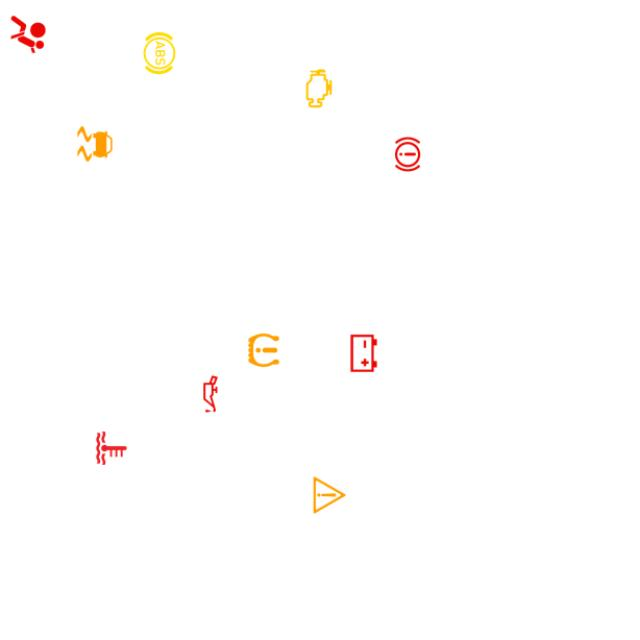Anti Lock Braking System: (136, 30, 182, 76)
Braking System Issue: (384, 132, 430, 178)
Charging System Issue: (341, 331, 387, 376)
Check Engine: (296, 66, 342, 111)
Electronic Stability Problem -ESP-: (72, 121, 118, 167)
Engine Overheating Warning Light: (89, 425, 134, 471)
Low Engine Oil Warning Light: (188, 371, 234, 417)
Low Tire Pressure Warning Light: (240, 327, 286, 373)
Master warning light: (306, 472, 352, 518)
SRS-Airbag: (5, 12, 51, 58)
